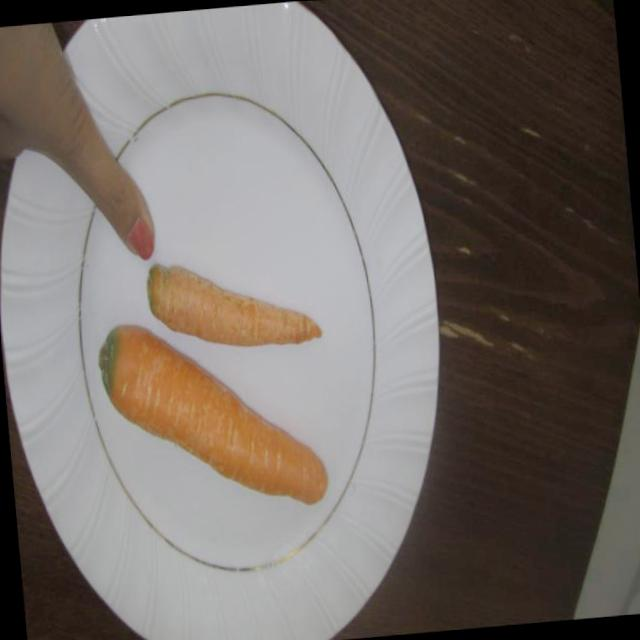Carrot: (89, 302, 336, 530), (142, 244, 328, 358)
Finger: (82, 153, 166, 267)
